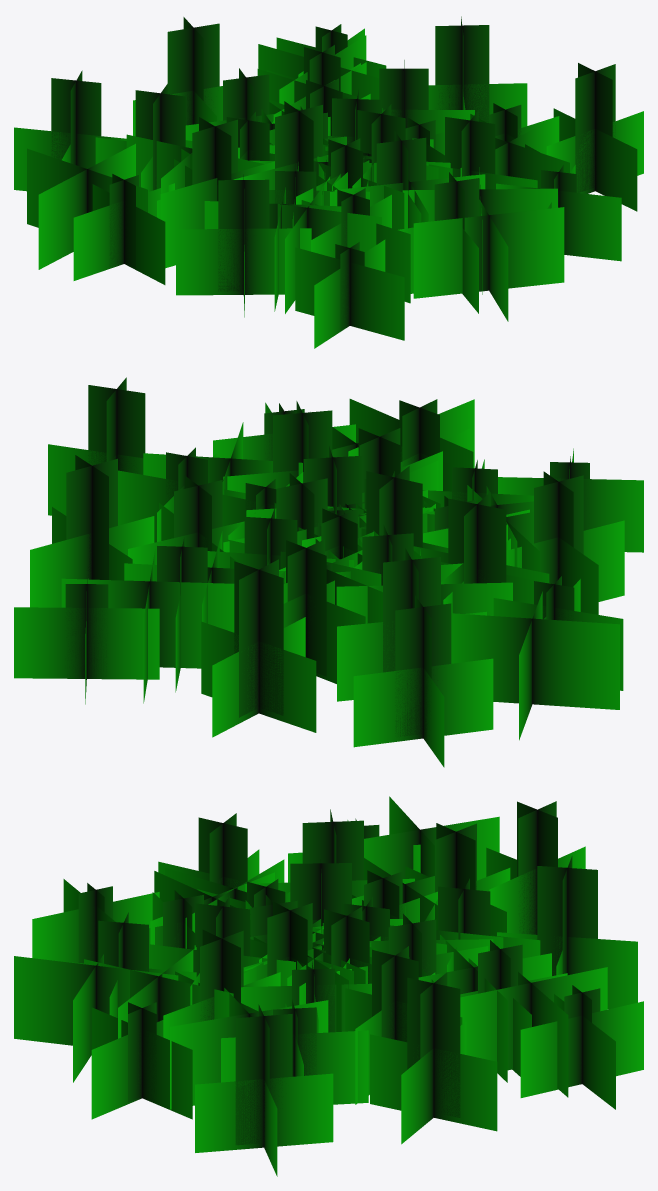
File: Grass_2.fbx
3 renders of one model, top to bottom at view 1: azimuth 30°, elevation 25°; view 2: azimuth 150°, elevation 25°; view 3: azimuth 270°, elevation 25°, orthographic. The views are drawn at different scales.
Visible parts, largest first — view 1: Grass_2; view 2: Grass_2; view 3: Grass_2.
Boxes of the visible parts, x1,y1,x2,y2 form: Grass_2: [14, 16, 643, 348]; Grass_2: [14, 377, 643, 767]; Grass_2: [14, 796, 643, 1176].
Size of the model in its own units: 1161 by 255 by 1042.
